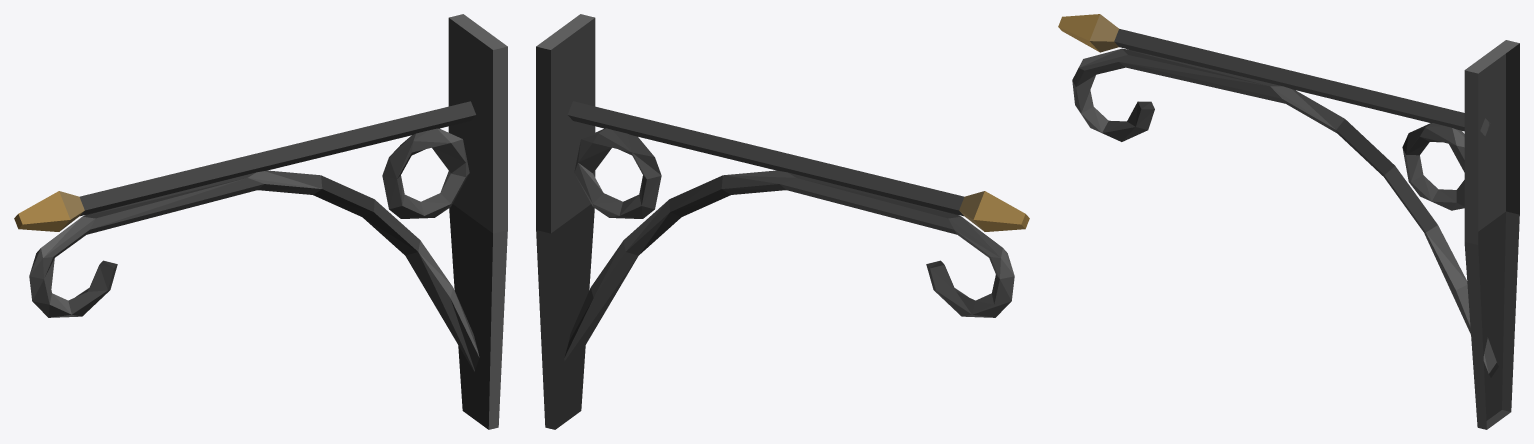
File: SignHolderB.fbx
3 views of the same model, side by side, from view 1: azimuth 30°, elevation 25°; view 2: azimuth 150°, elevation 25°; view 3: azimuth 330°, elevation 25° (orthographic). The views are drawn at different scales.
Parts seen in each view (by area): view 1: SignHolderB; view 2: SignHolderB; view 3: SignHolderB.
Part boxes in pixels (x1,y1,x2,y2): SignHolderB: (14,14,507,429); SignHolderB: (536,14,1029,429); SignHolderB: (1058,14,1519,429).
Bounding box in the file's own units: 166 × 132 × 27.33.
